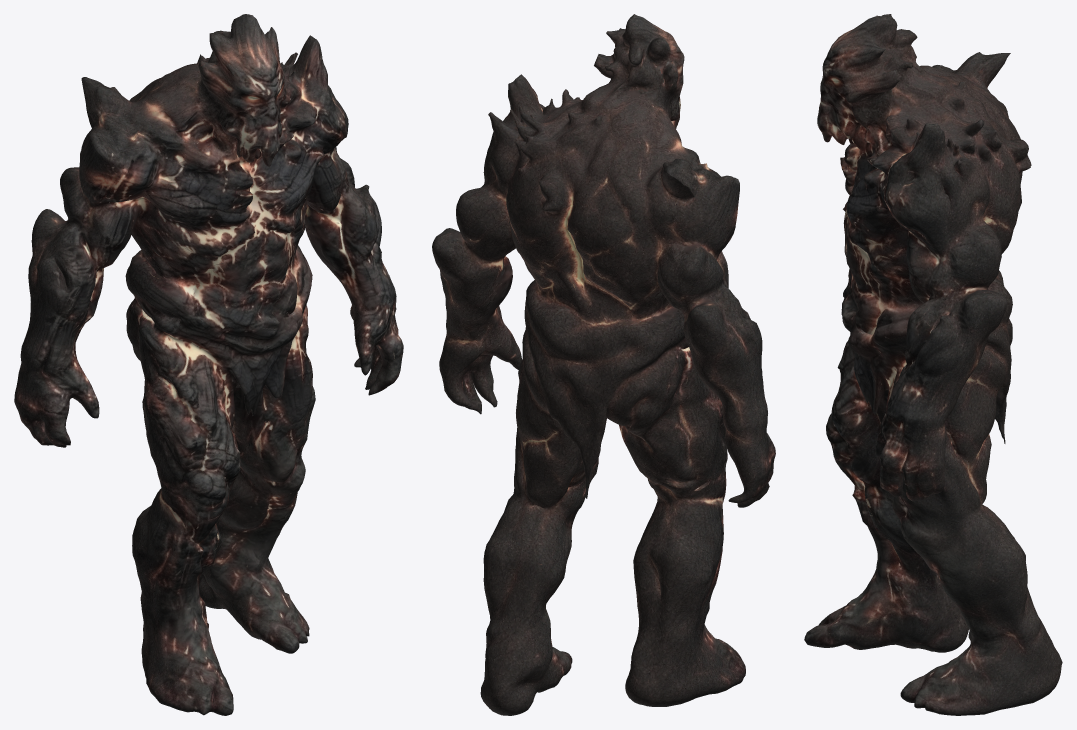
Rendered from vharkar-v3-weaponless.glb.
3 renders of one model, left to right at view 1: azimuth 30°, elevation 25°; view 2: azimuth 150°, elevation 25°; view 3: azimuth 270°, elevation 25°, orthographic.
Visible parts, largest first — view 1: mesh_node; view 2: mesh_node; view 3: mesh_node.
Part boxes in pixels (box(x1,y1,x2,y2)): mesh_node: box(14, 14, 403, 715); mesh_node: box(432, 14, 775, 715); mesh_node: box(804, 14, 1062, 715).
Bounding box in the file's own units: 1.05 × 1.89 × 0.6715.
Materials: 1 (1 with a texture image).
